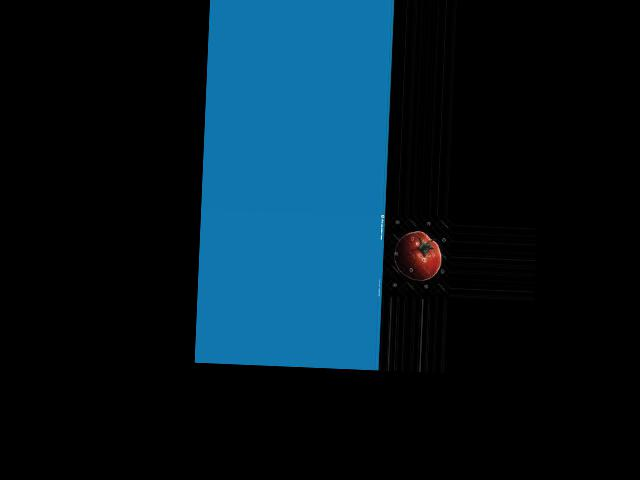tomato: (393, 230, 442, 282)
